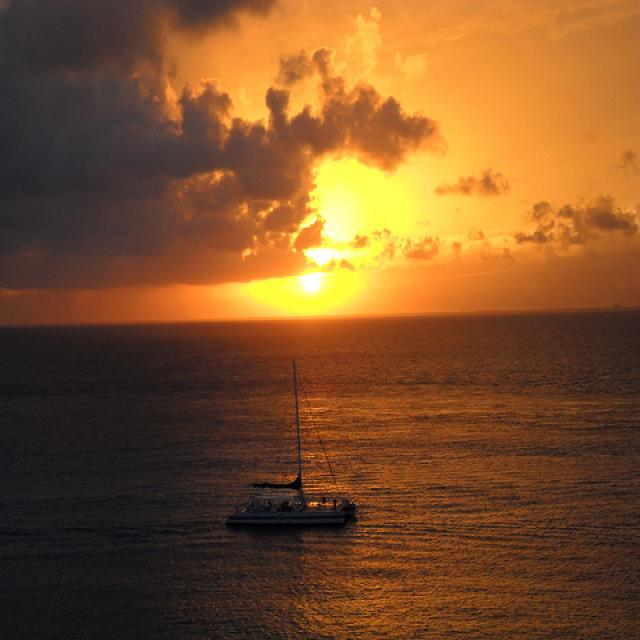Boat: (221, 360, 390, 584)
